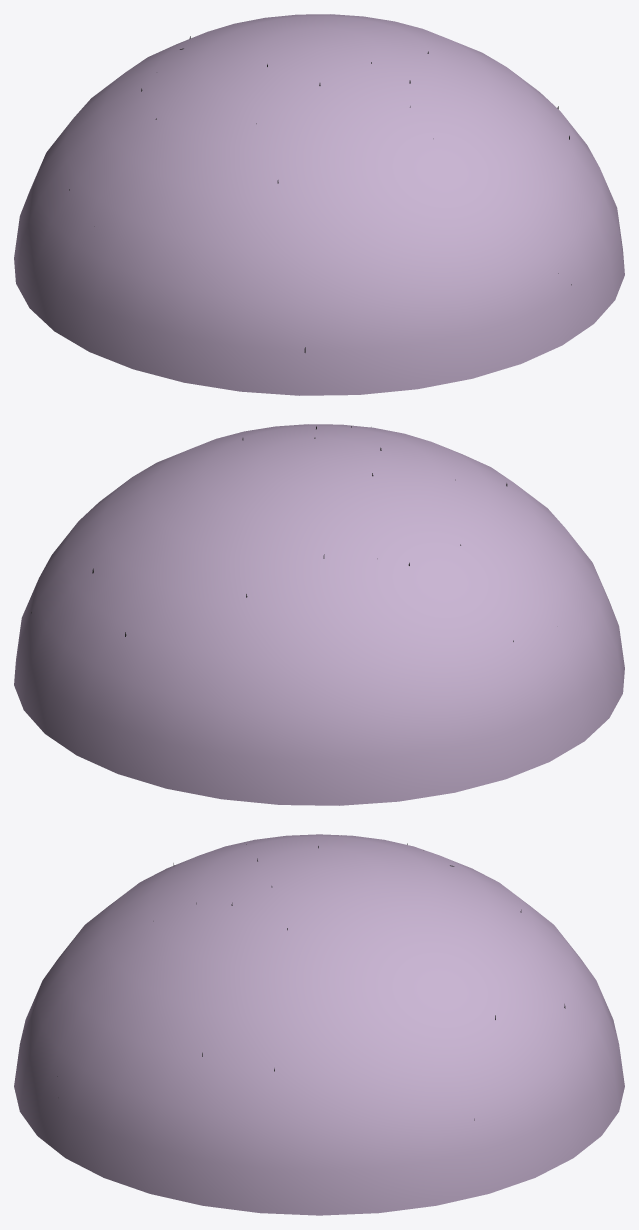
Rendered from particule_000019.obj.
3 renders of one model, top to bottom at view 1: azimuth 30°, elevation 25°; view 2: azimuth 150°, elevation 25°; view 3: azimuth 270°, elevation 25°, orthographic.
Visible parts, largest first — view 1: Sphère; view 2: Sphère; view 3: Sphère.
Boxes of the visible parts, <box> form: Sphère: <box>14,14,624,395</box>; Sphère: <box>14,424,624,805</box>; Sphère: <box>14,834,624,1215</box>.
Size of the model in its own units: 63430 by 25025 by 63430.
